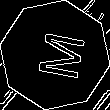M_W: (26, 27, 84, 83)
